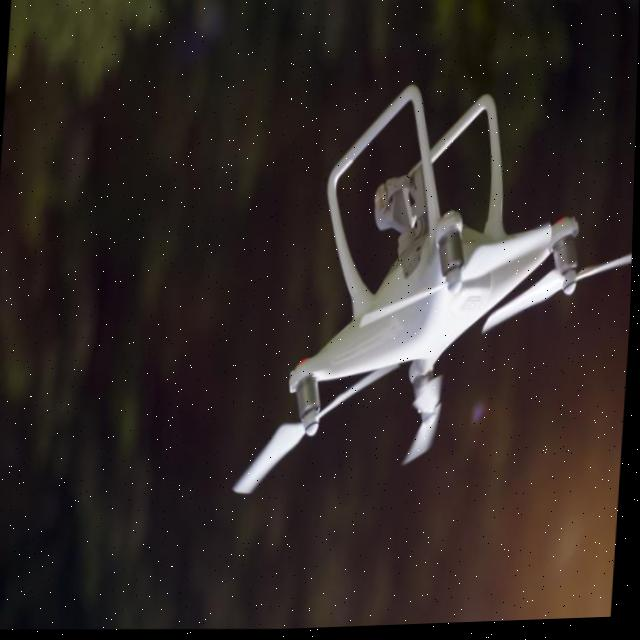drones: (166, 54, 638, 530)
